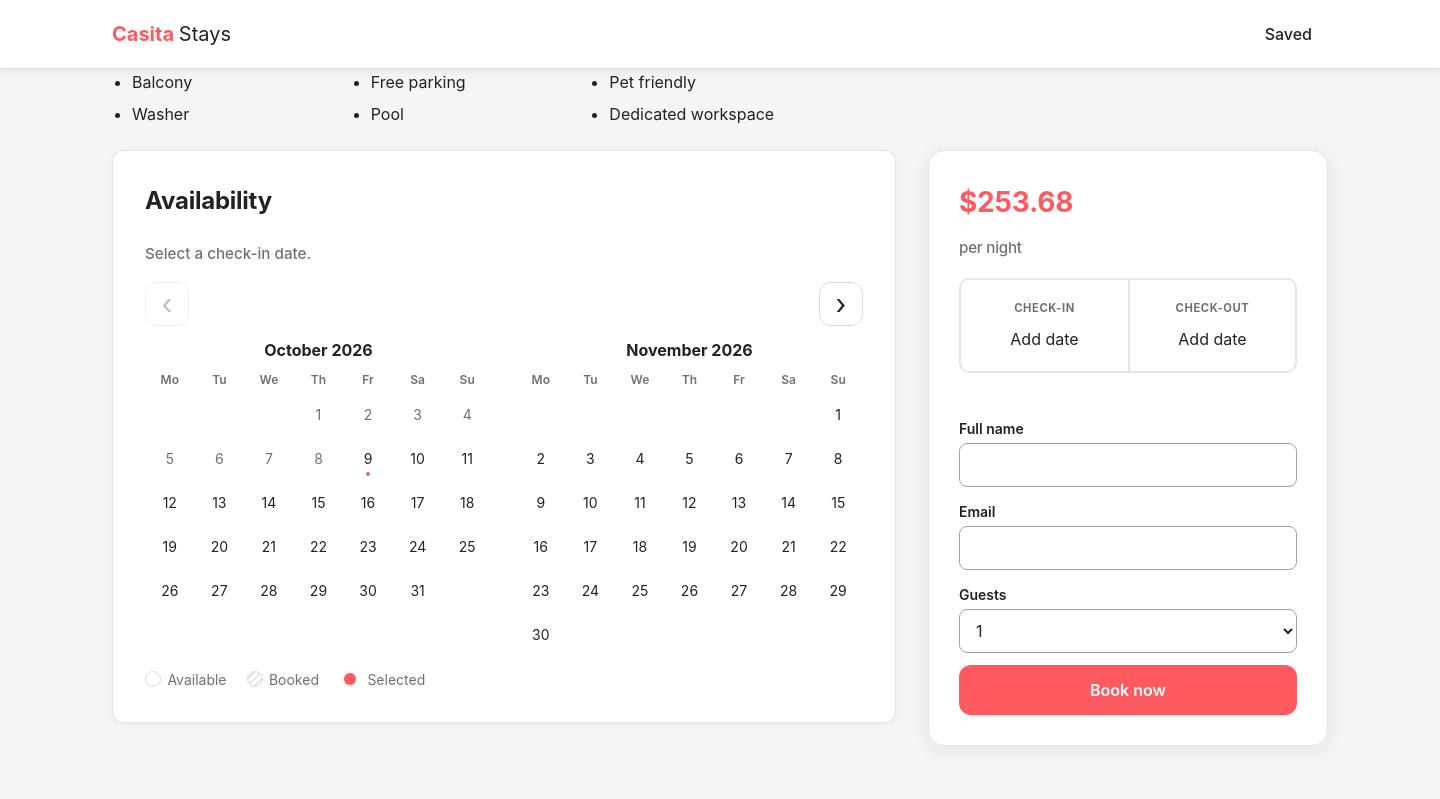
Test: booking flow › shows a friendly message for a 400 with a server message
(page scrolled)
Expected: the table named "October 2026" is shown, left=145, top=370, right=492, bottom=613
Click the button "12" below "October 2026" at (170, 503), box left=148, top=481, right=192, bottom=525
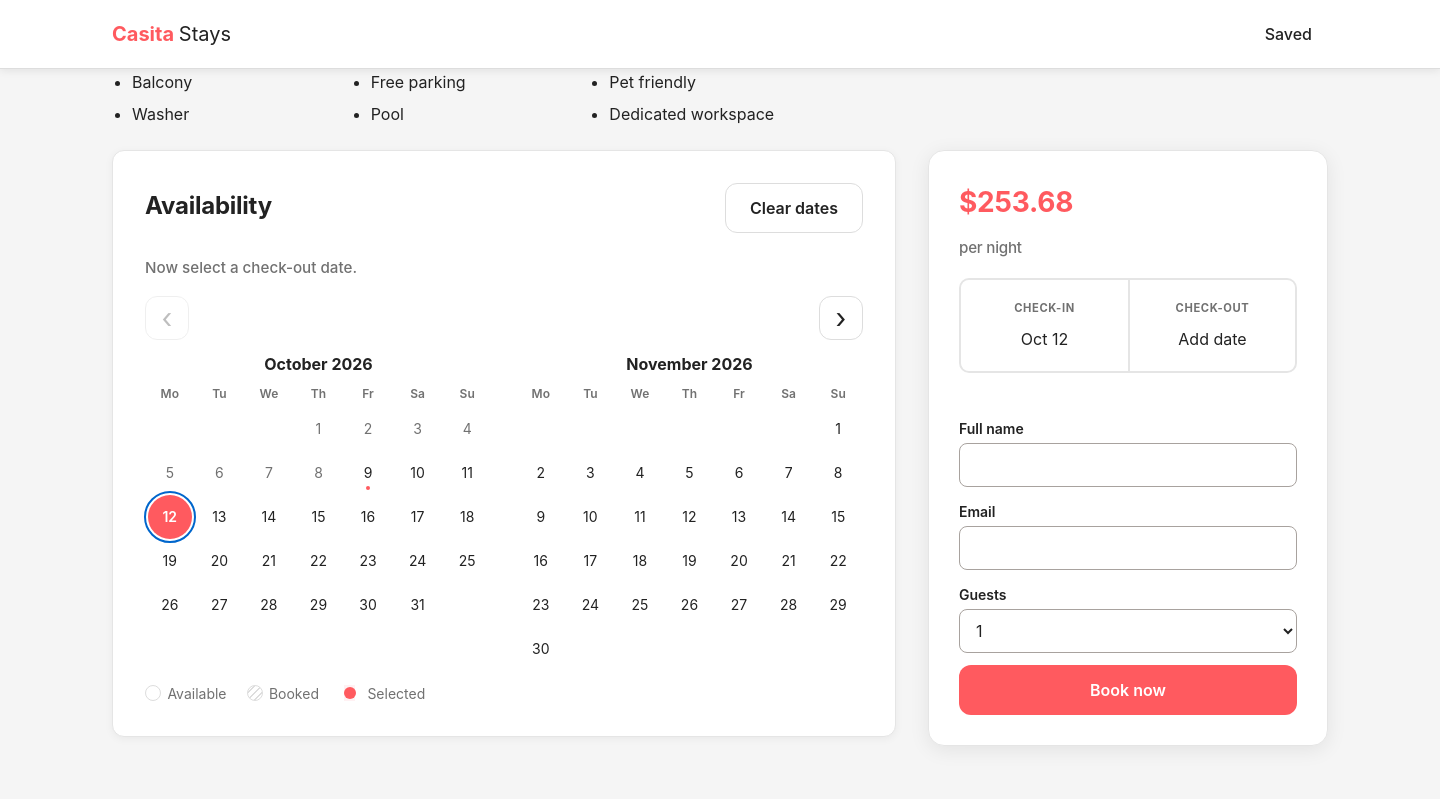
Click the button "14" below "October 2026" at (269, 517), box left=247, top=495, right=291, bottom=539
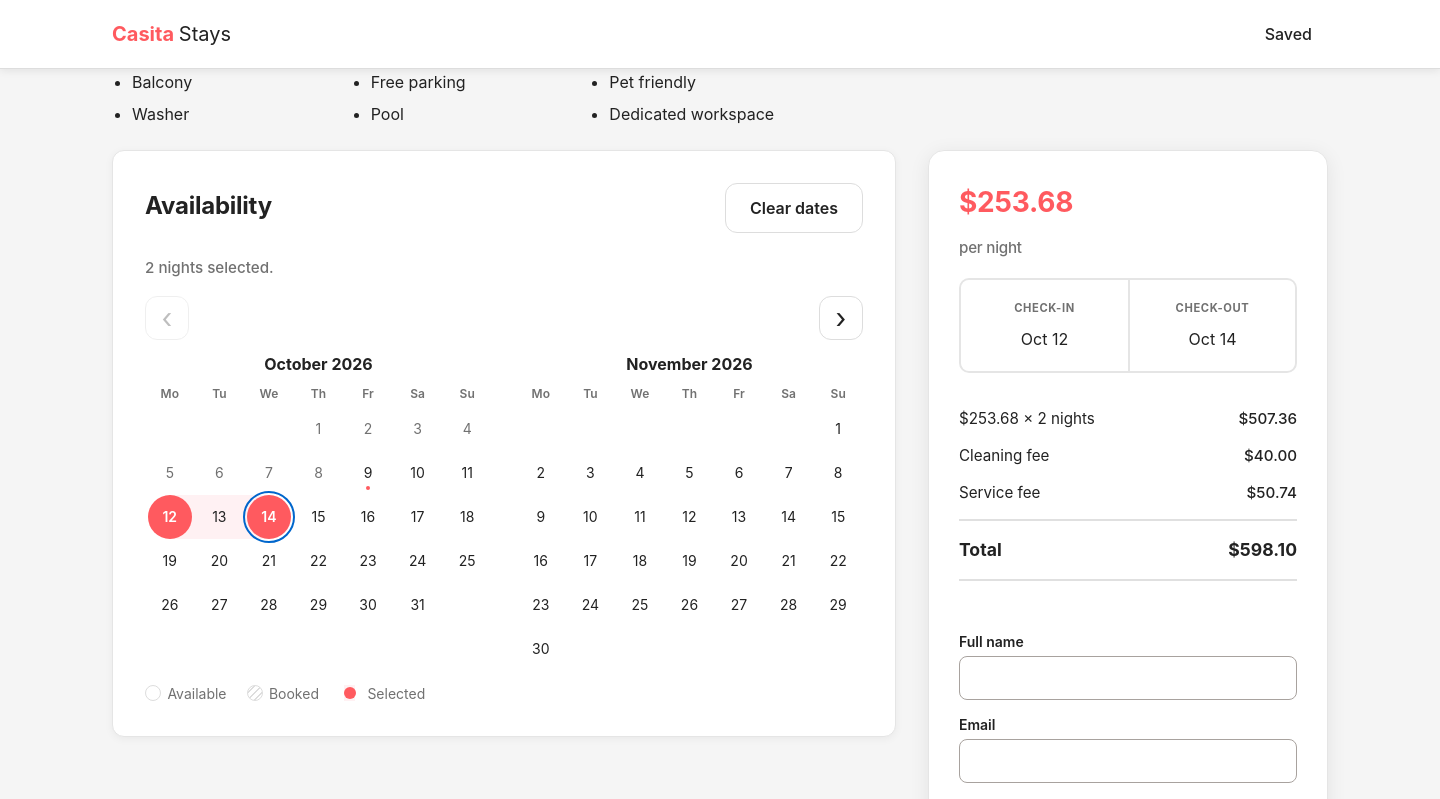
Type "Ana Silva" into the field labelled "Full name" at (1128, 678), box left=959, top=656, right=1297, bottom=700
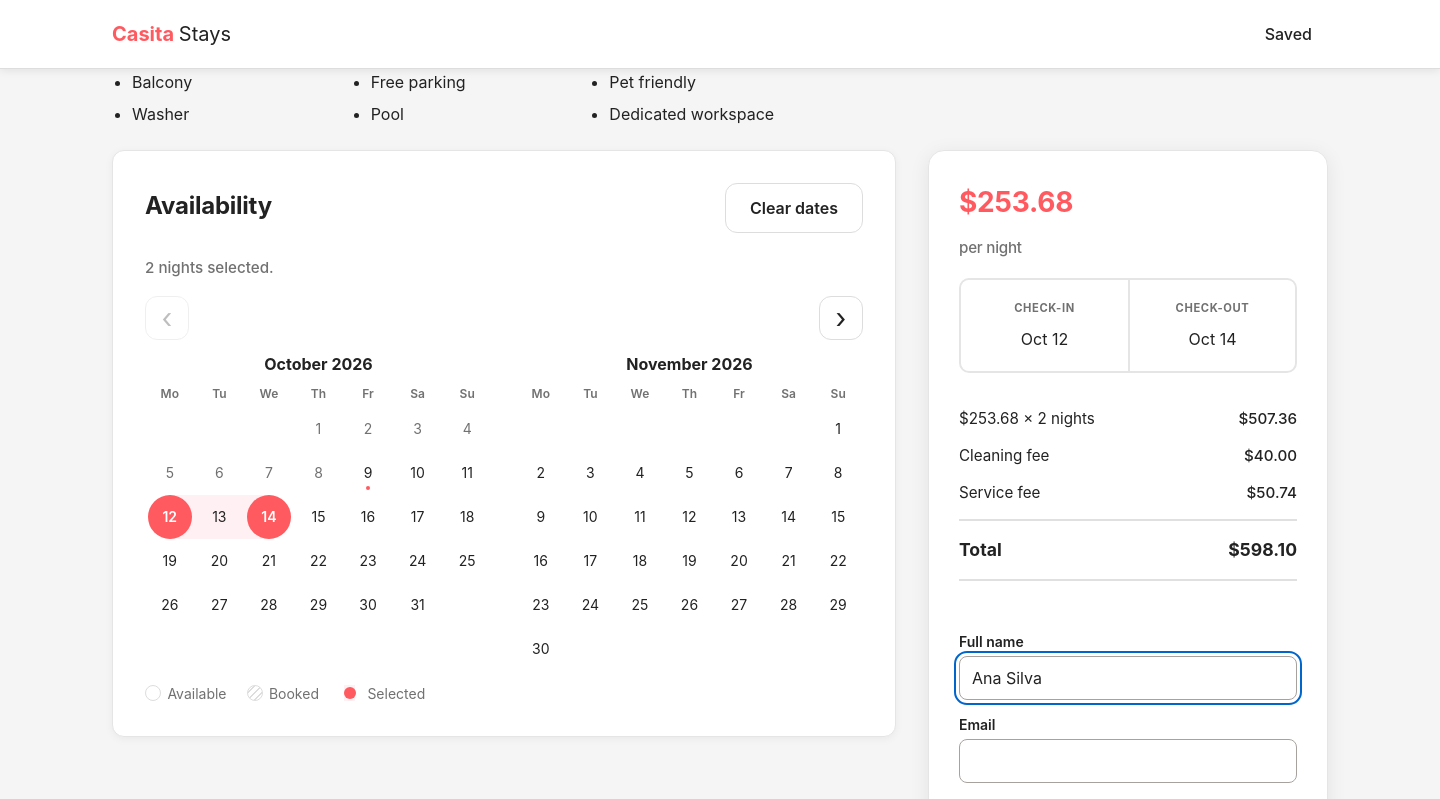
Type "ana@example.com" into the field labelled "Email" at (1128, 761), box left=959, top=739, right=1297, bottom=783
(page scrolled)
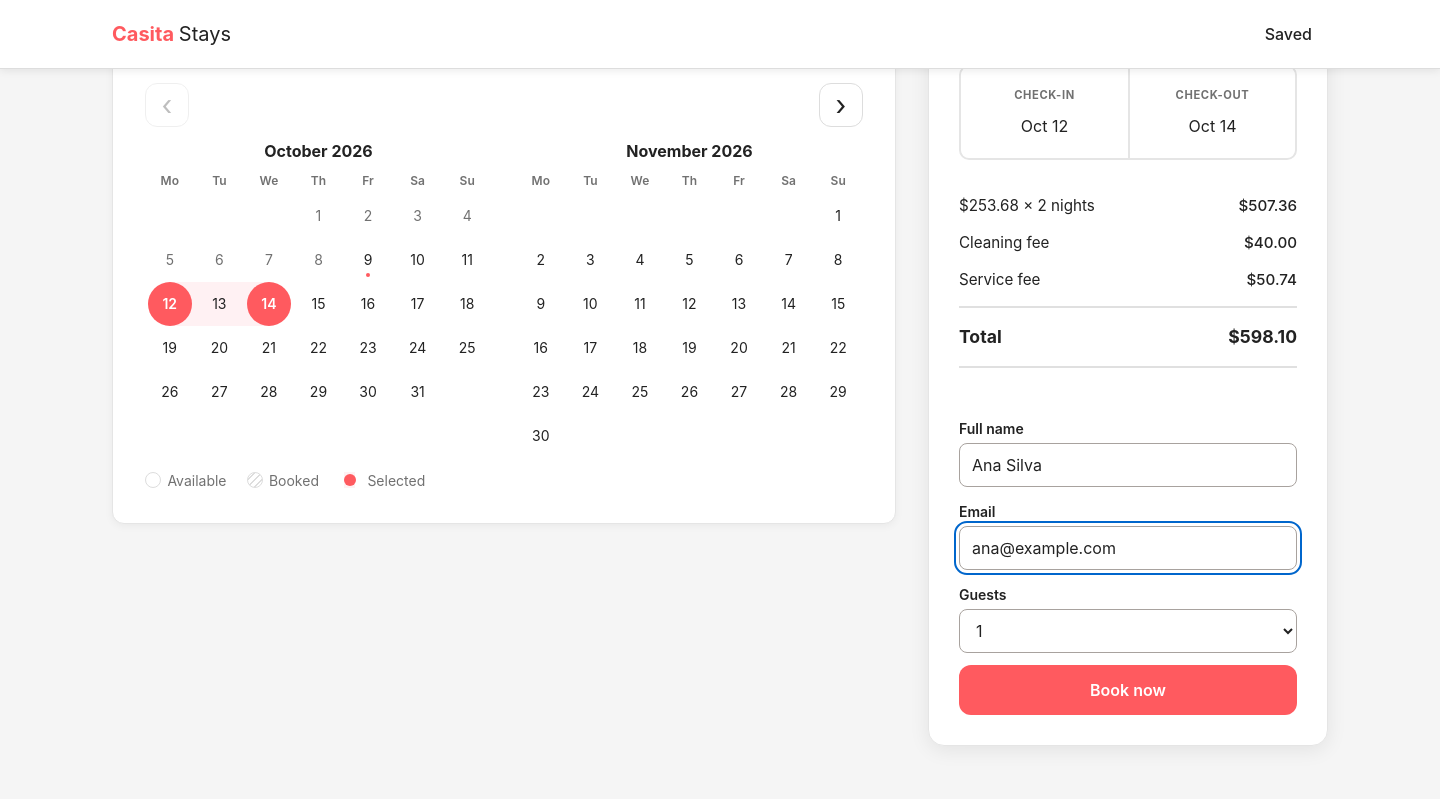
Click the button "Book now" at (1128, 690), box left=959, top=665, right=1297, bottom=715
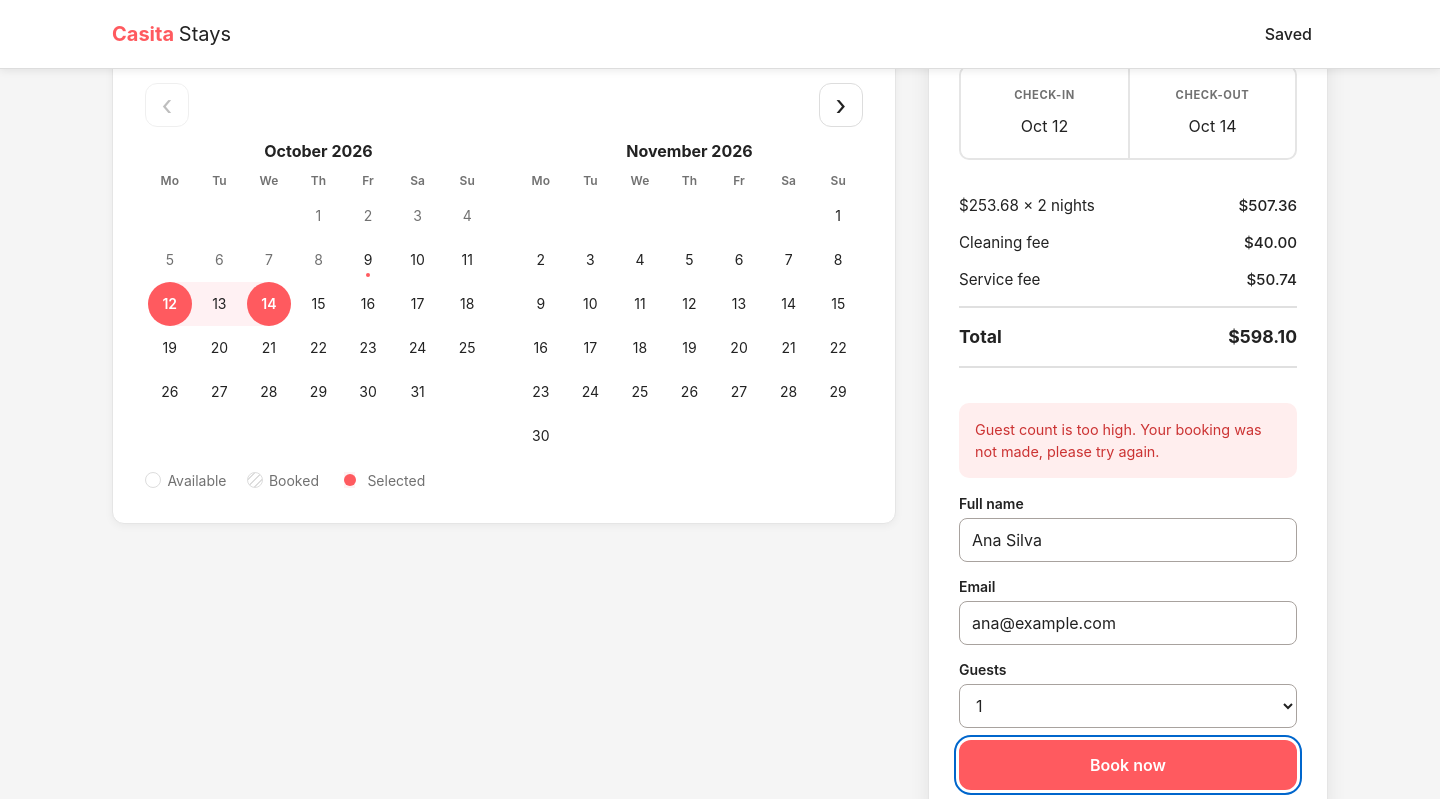
Expected: the text "Guest count is too high. Your booking was not made, please try again." is shown, left=959, top=403, right=1297, bottom=478
